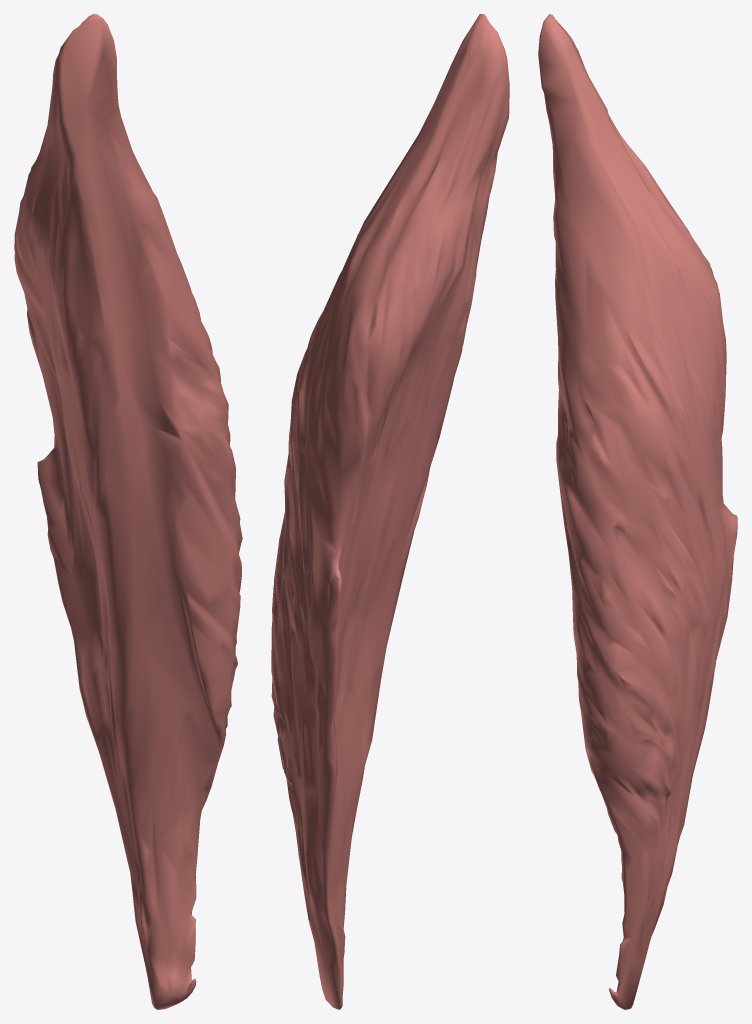
3 views of the same model, side by side, from view 1: azimuth 30°, elevation 25°; view 2: azimuth 150°, elevation 25°; view 3: azimuth 270°, elevation 25° (orthographic). The views are drawn at different scales.
Parts seen in each view (by area): view 1: ZA_71505881f936b223; view 2: ZA_71505881f936b223; view 3: ZA_71505881f936b223.
Boxes of the visible parts, x1,y1,x2,y2 form: ZA_71505881f936b223: (14, 14, 242, 1009); ZA_71505881f936b223: (271, 14, 509, 1009); ZA_71505881f936b223: (538, 14, 737, 1009).
Bounding box in the file's own units: 0.0562 × 0.2648 × 0.0507.
